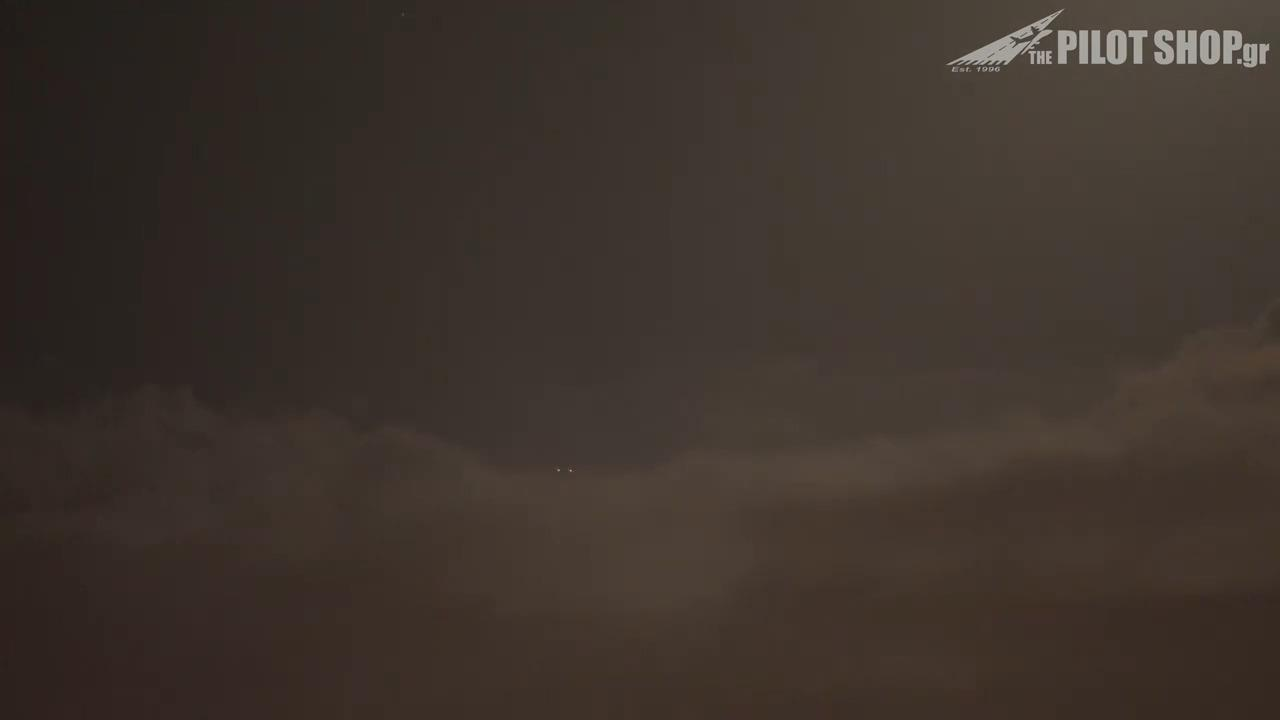Plane: (545, 464, 587, 473)
